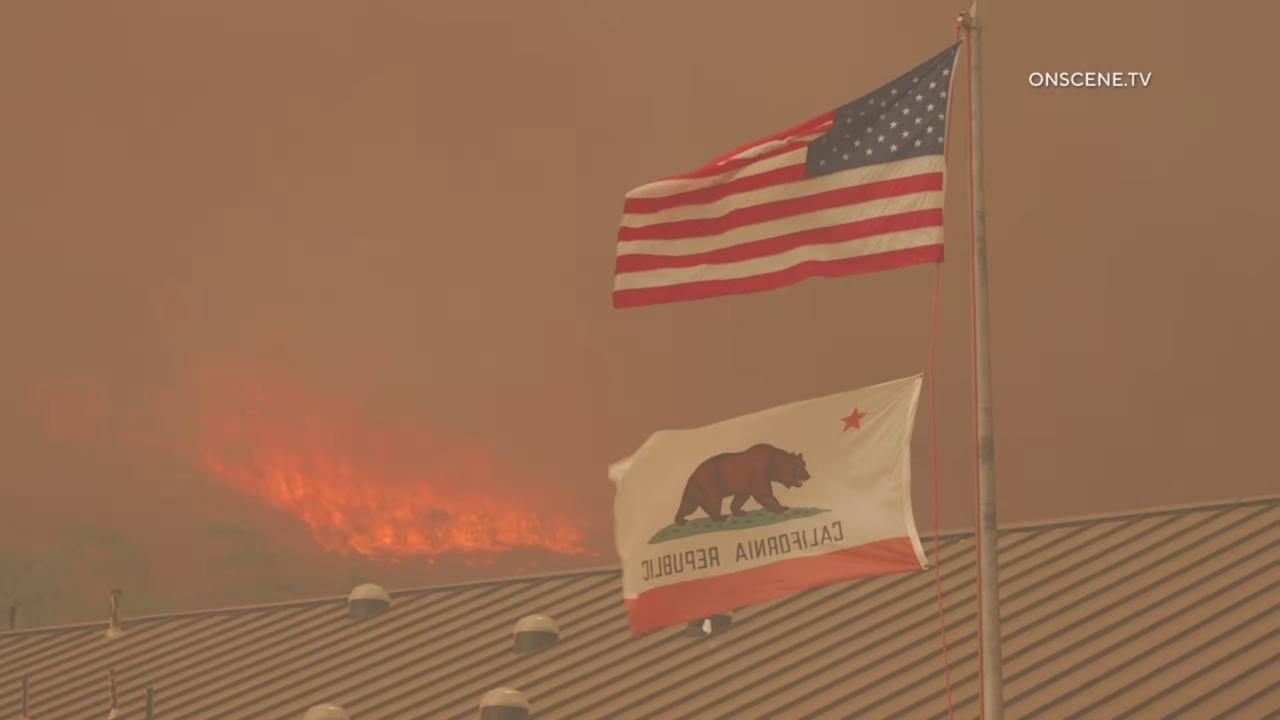fire: (194, 367, 604, 564)
smoke: (0, 0, 1280, 631)
